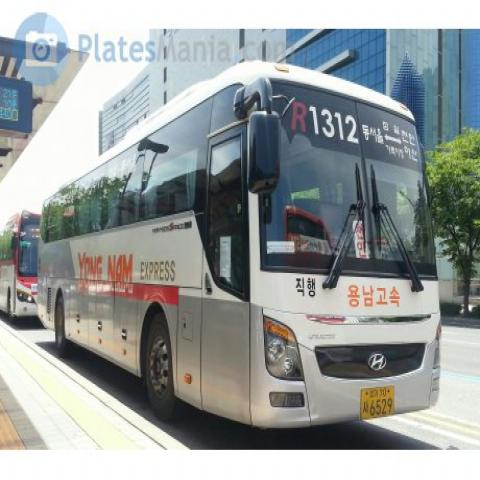LP: (353, 380, 399, 424)
